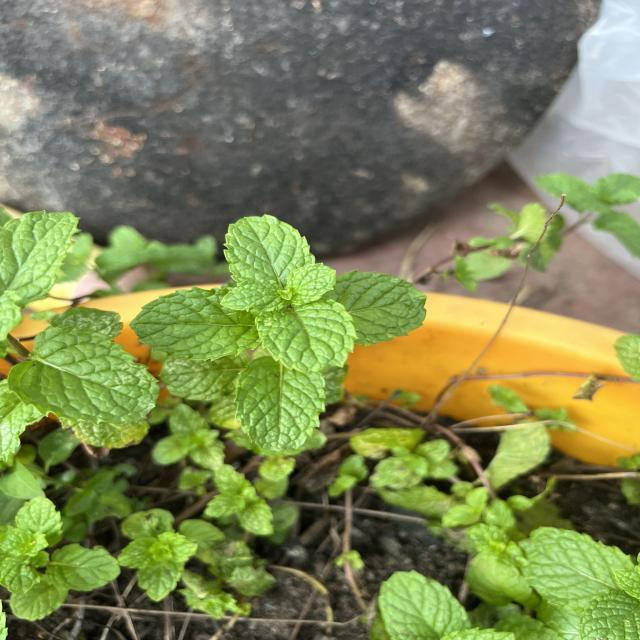Mentha spicata: (5, 324, 164, 428), (127, 284, 261, 364), (233, 354, 328, 455), (255, 296, 362, 376), (330, 267, 430, 349), (221, 212, 316, 288)
